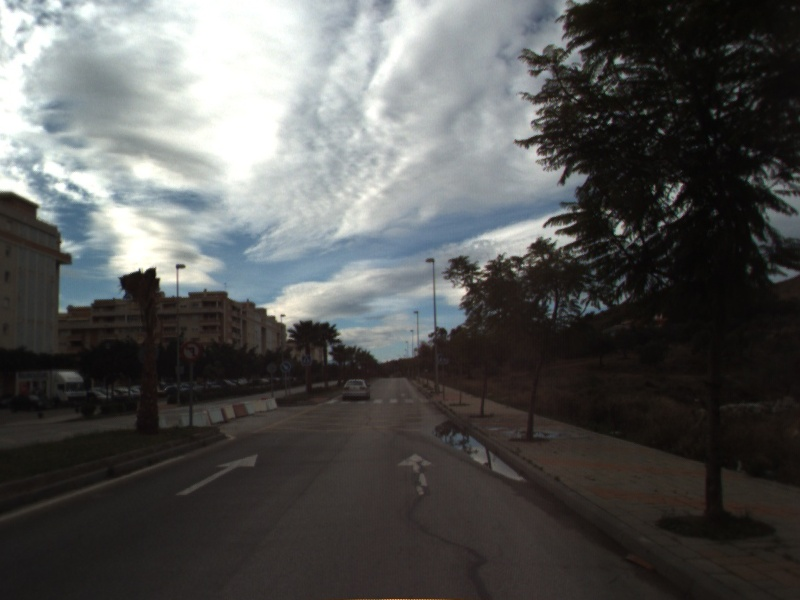STRAIGHT: (174, 452, 260, 497), (395, 451, 437, 498)
